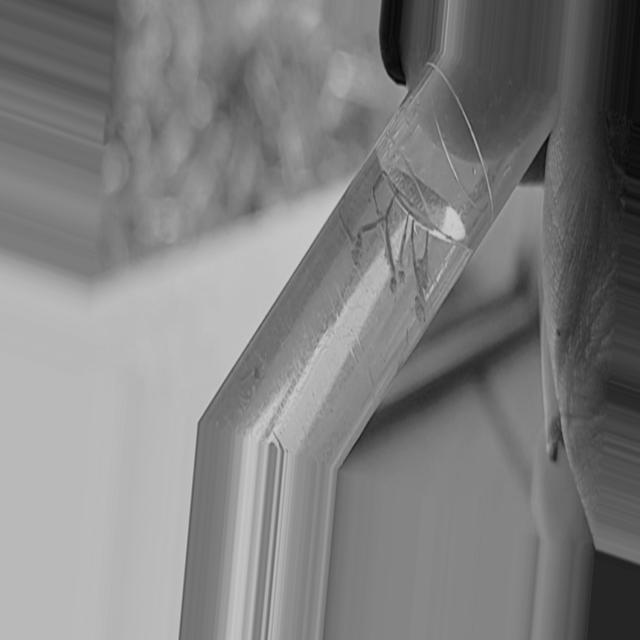larvas: (338, 202, 365, 266), (410, 218, 425, 304), (385, 223, 400, 300), (396, 212, 412, 282), (357, 210, 387, 241), (383, 182, 399, 224), (372, 170, 386, 214), (419, 260, 431, 287), (239, 368, 260, 382), (268, 433, 285, 450), (419, 232, 428, 260), (416, 294, 423, 329)
